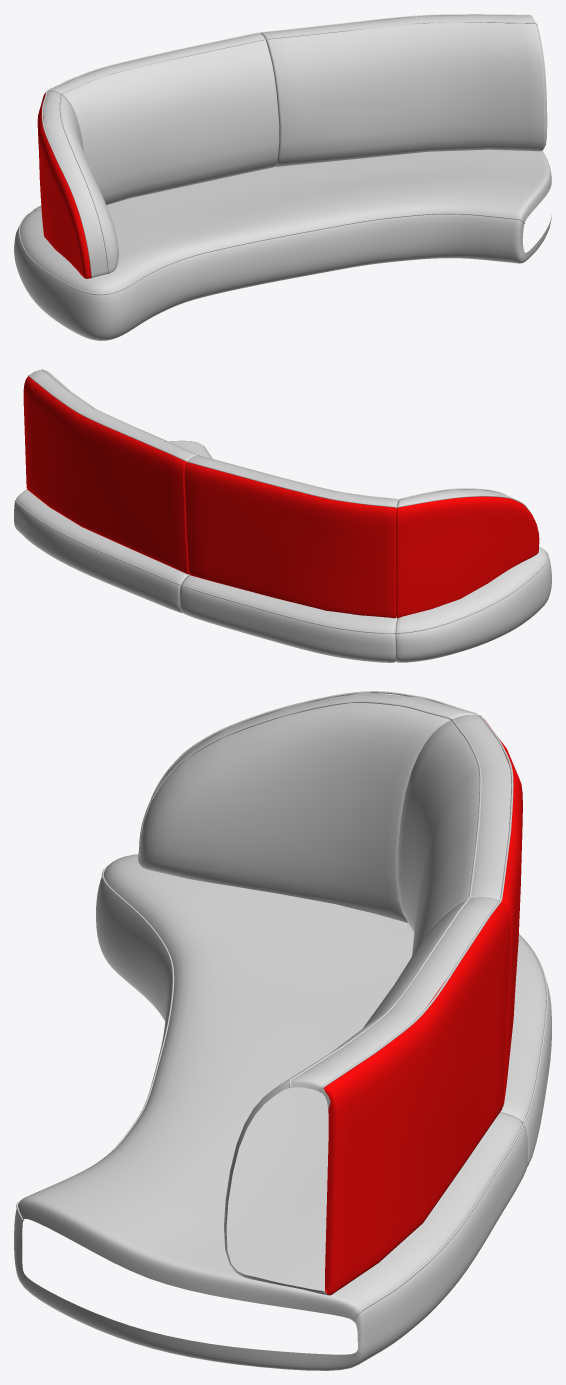
The model's file is levante_l_male.gltf.
3 renders of one model, top to bottom at view 1: azimuth 30°, elevation 25°; view 2: azimuth 150°, elevation 25°; view 3: azimuth 270°, elevation 25°, orthographic. The views are drawn at different scales.
Parts seen in each view (by area): view 1: levante_l_male; view 2: levante_l_male; view 3: levante_l_male.
Part boxes in pixels (<box>): levante_l_male: <box>14,14,551,340</box>; levante_l_male: <box>14,369,551,662</box>; levante_l_male: <box>14,691,551,1370</box>.
Bounding box in the file's own units: 2.21 × 0.6903 × 1.15.
